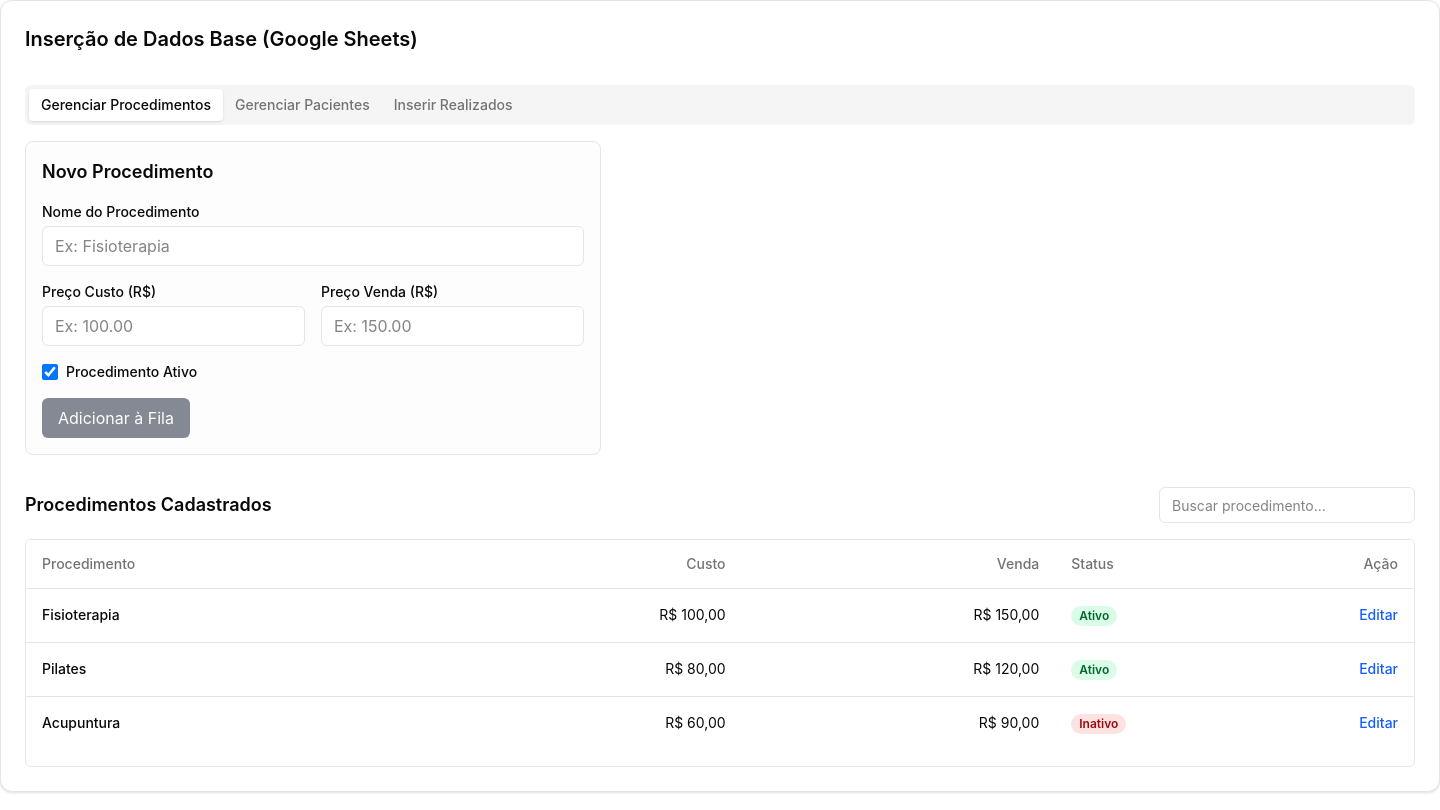
Scenario: FormProcedimento - criacao de novo procedimento › mostra sucesso apos POST bem-sucedido
Type "Novo Procedimento" into the field with placeholder "Ex: Fisioterapia" at (313, 246), box 42,226 -> 584,266
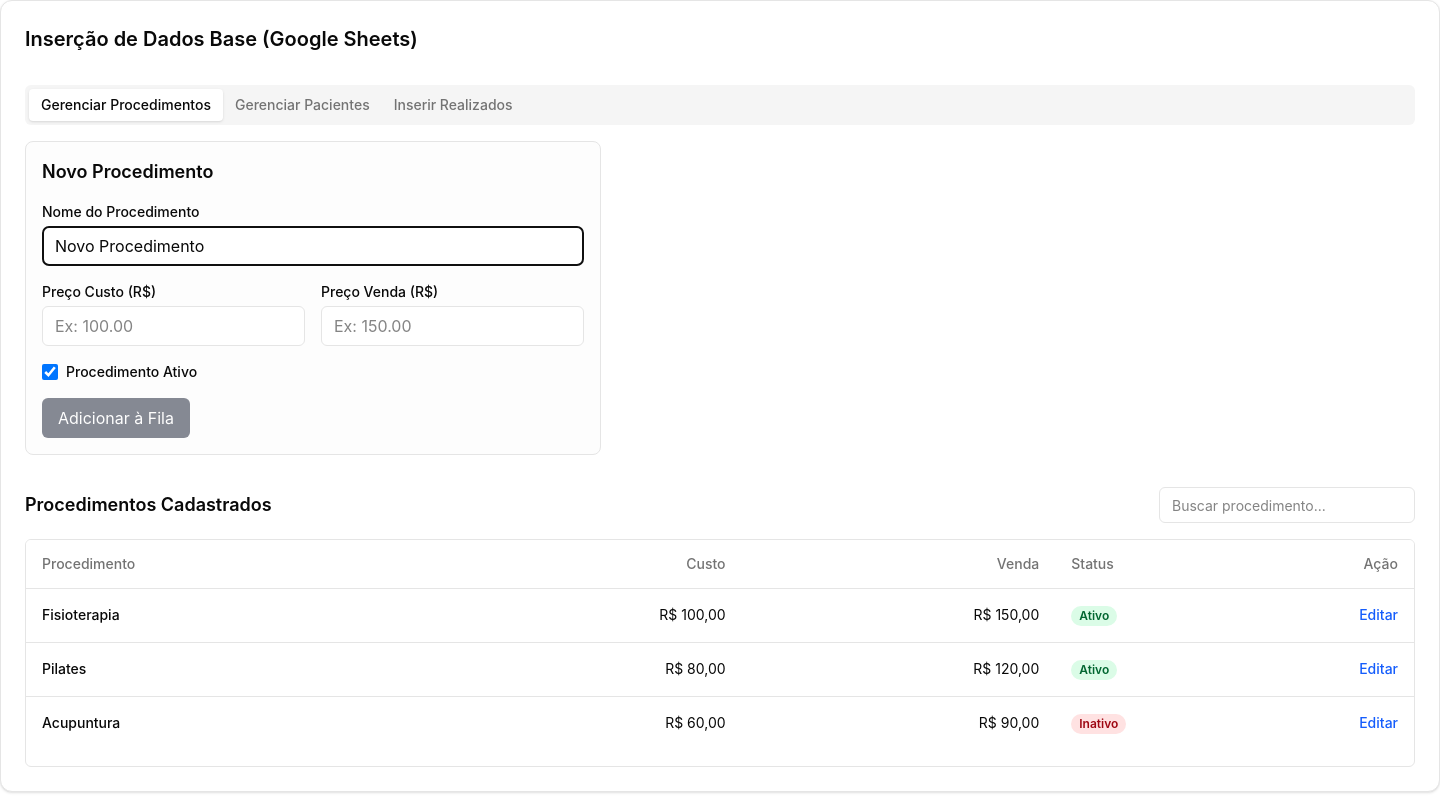
Type "50" into the number field with placeholder "Ex: 100.00" at (174, 326), box 42,306 -> 305,346
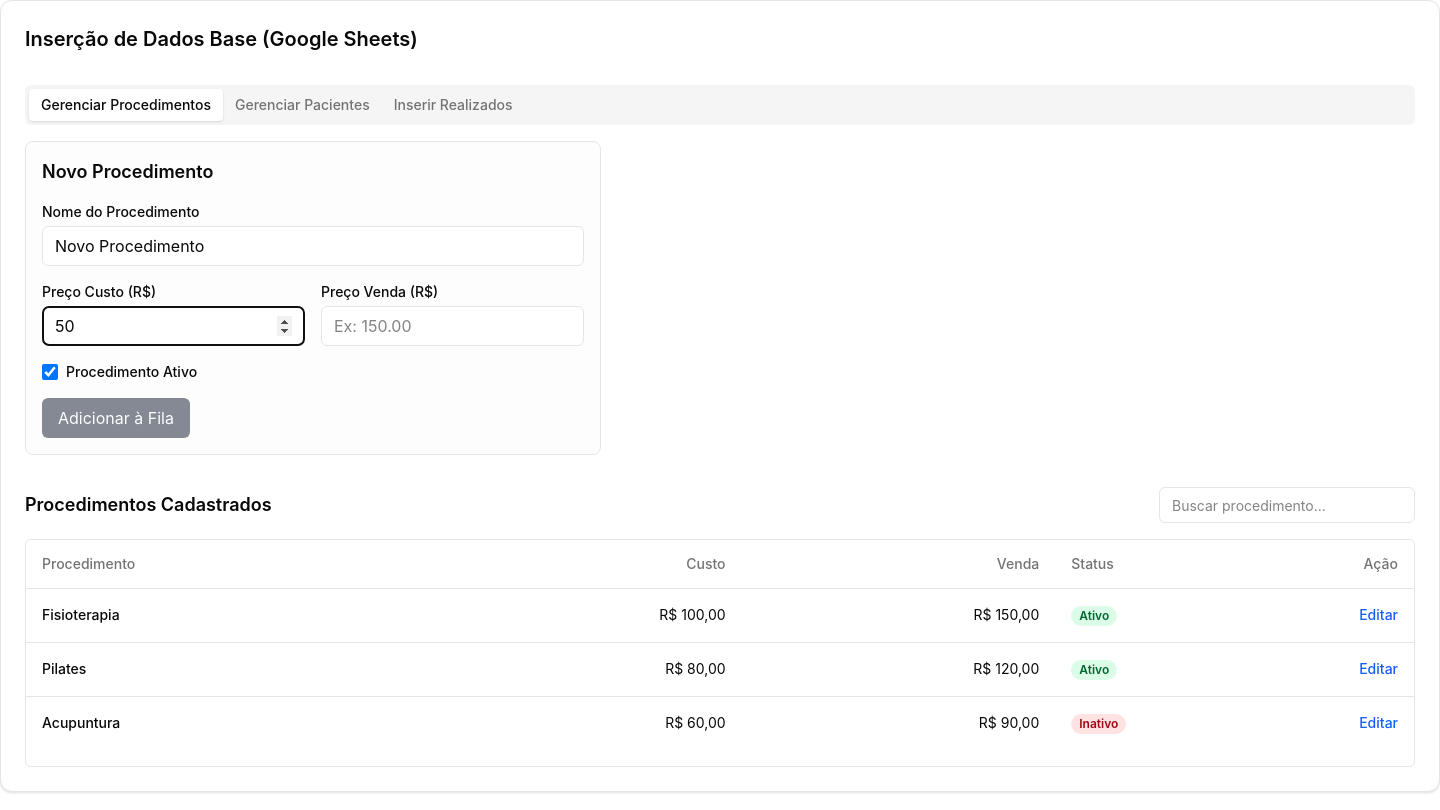
Type "80" into the number field with placeholder "Ex: 150.00" at (452, 326), box 321,306 -> 584,346
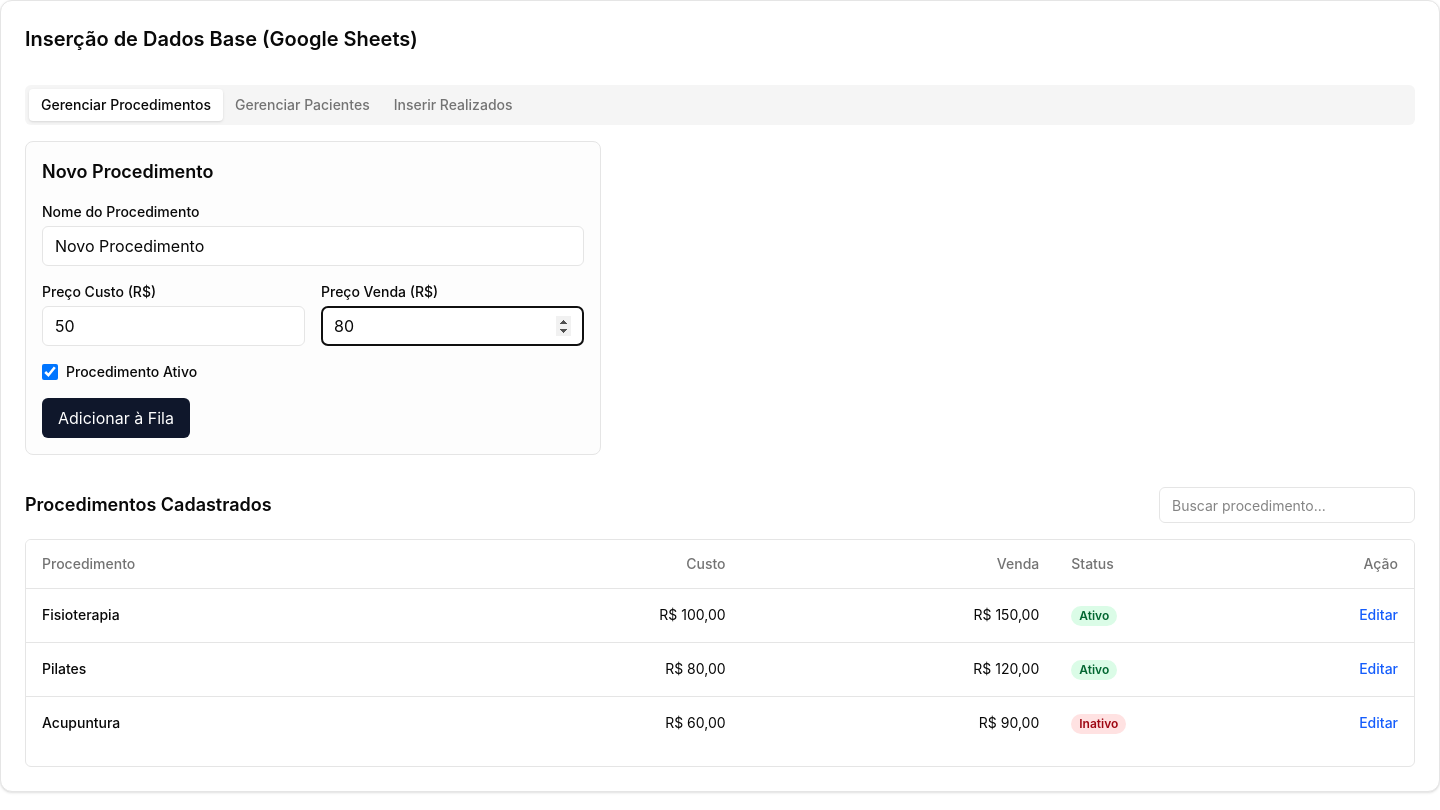
Click the button "Adicionar à Fila" at (116, 418), box 42,398 -> 190,438
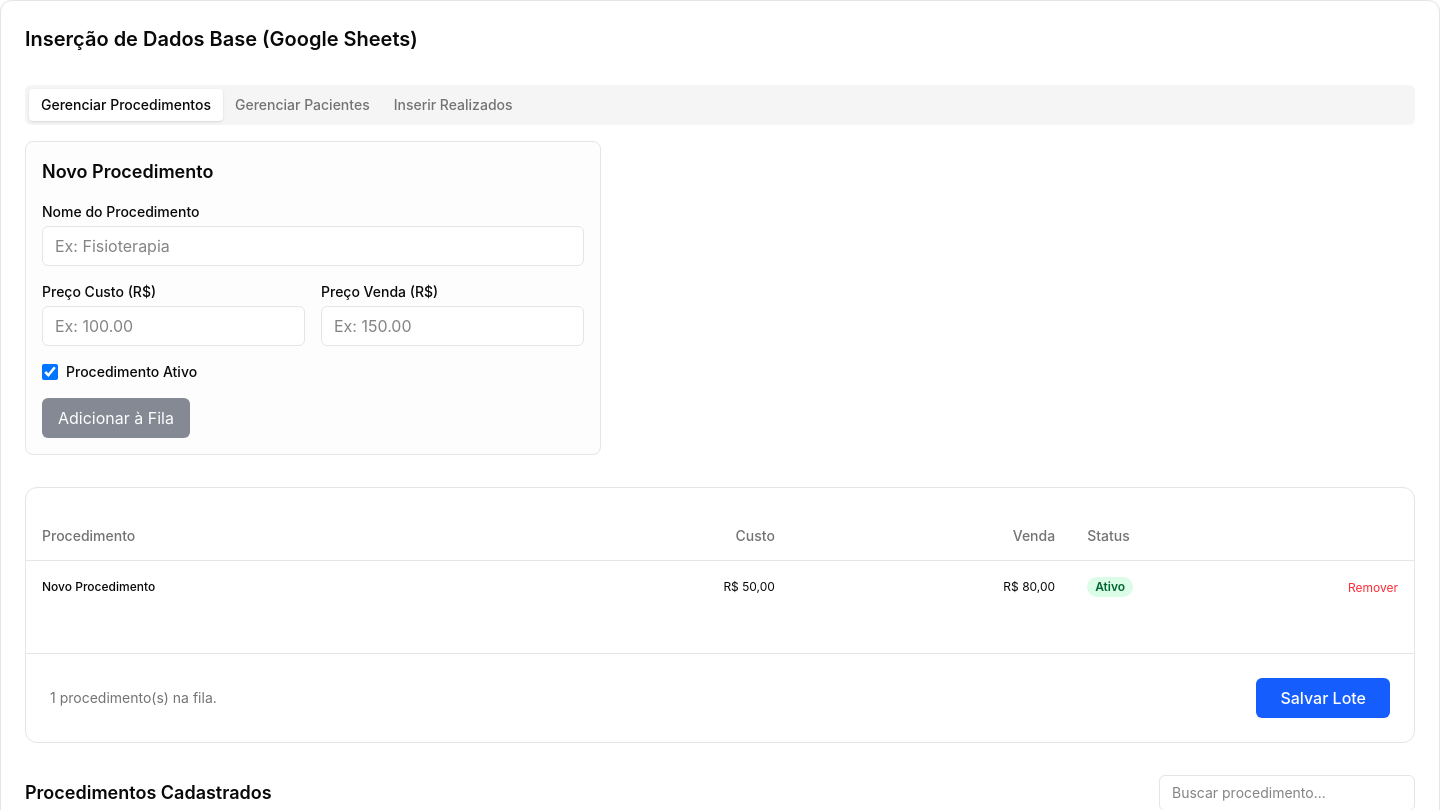
Click the button "Salvar Lote" at (1323, 698), box 1256,678 -> 1390,718
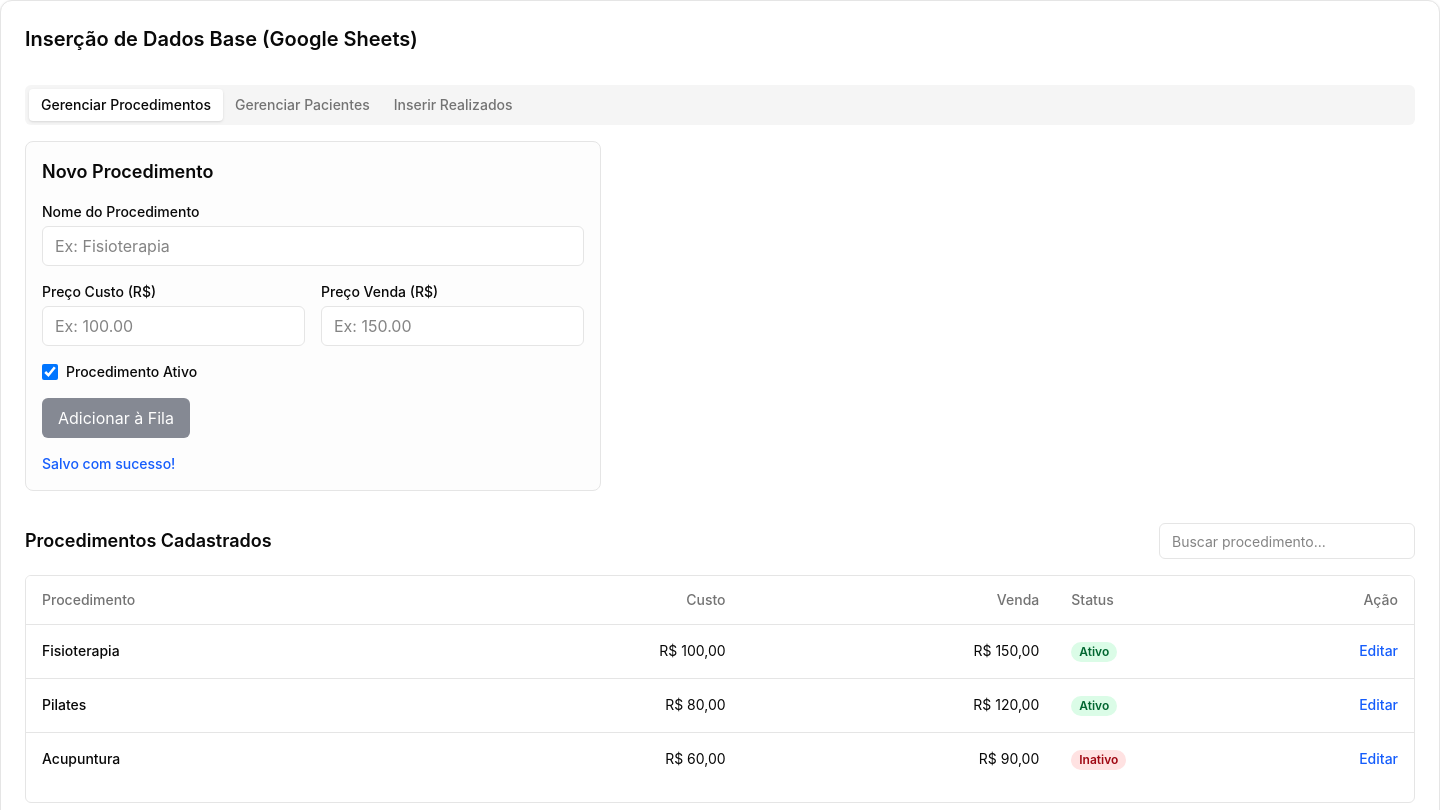
Expected: the text "Salvo com sucesso!" is shown, 42,455 -> 175,472
